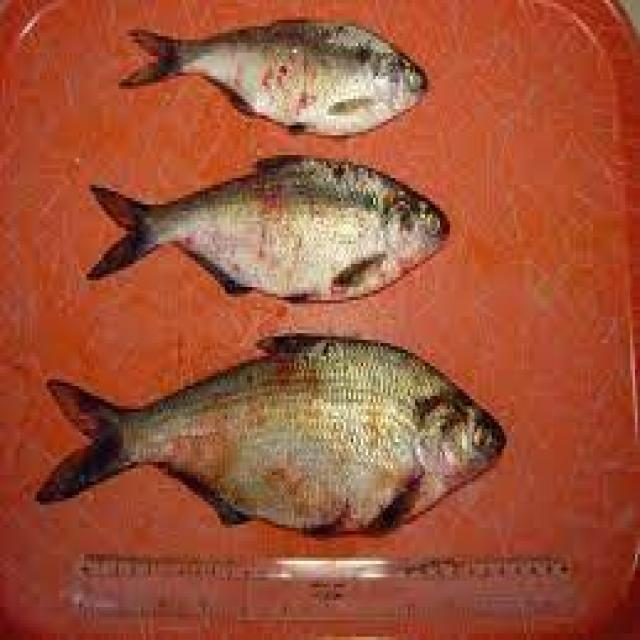EUS Disease: (27, 334, 534, 540), (59, 158, 497, 304), (100, 15, 451, 138), (242, 350, 372, 531), (200, 178, 334, 271), (216, 25, 334, 117), (148, 389, 238, 494)
